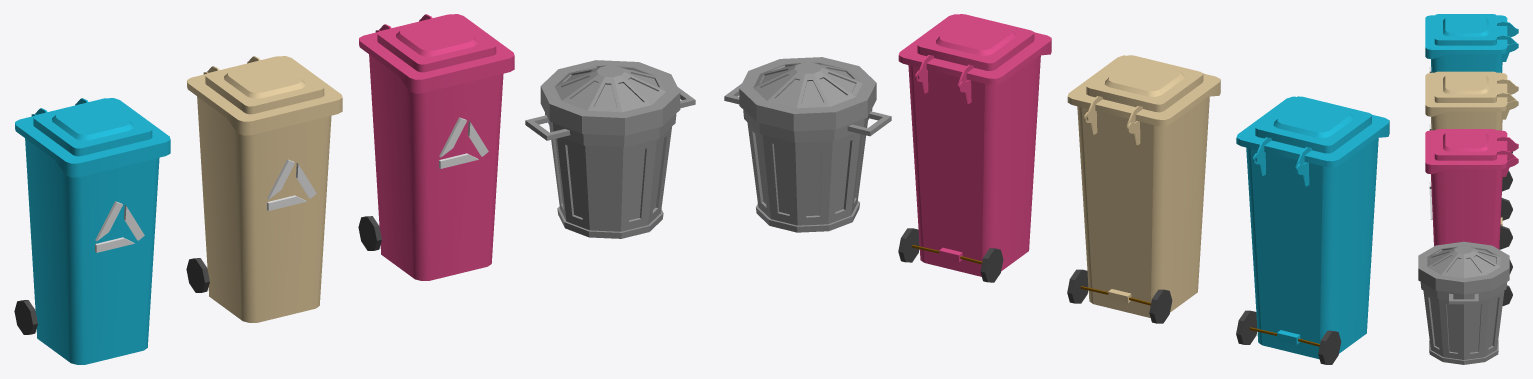
The model's file is BinMeshes.fbx.
3 renders of one model, left to right at view 1: azimuth 30°, elevation 25°; view 2: azimuth 150°, elevation 25°; view 3: azimuth 270°, elevation 25°, orthographic. The views are drawn at different scales.
Parts seen in each view (by area): view 1: OrangeBinMesh, BlueBinMesh, RedBinMesh, TrashCanMesh; view 2: BlueBinMesh, OrangeBinMesh, RedBinMesh, TrashCanMesh; view 3: TrashCanMesh, RedBinMesh, OrangeBinMesh, BlueBinMesh.
Boxes of the visible parts, x1,y1,x2,y2 form: OrangeBinMesh: [186, 56, 342, 322]; BlueBinMesh: [14, 98, 170, 364]; RedBinMesh: [358, 14, 514, 280]; TrashCanMesh: [525, 60, 695, 238]; BlueBinMesh: [1236, 96, 1389, 364]; OrangeBinMesh: [1067, 55, 1220, 323]; RedBinMesh: [898, 14, 1051, 282]; TrashCanMesh: [724, 57, 891, 232]; TrashCanMesh: [1418, 241, 1509, 364]; RedBinMesh: [1425, 129, 1518, 305]; OrangeBinMesh: [1425, 71, 1518, 249]; BlueBinMesh: [1425, 14, 1518, 191].
Bounding box in the file's own units: 373 × 124 × 73.91.
